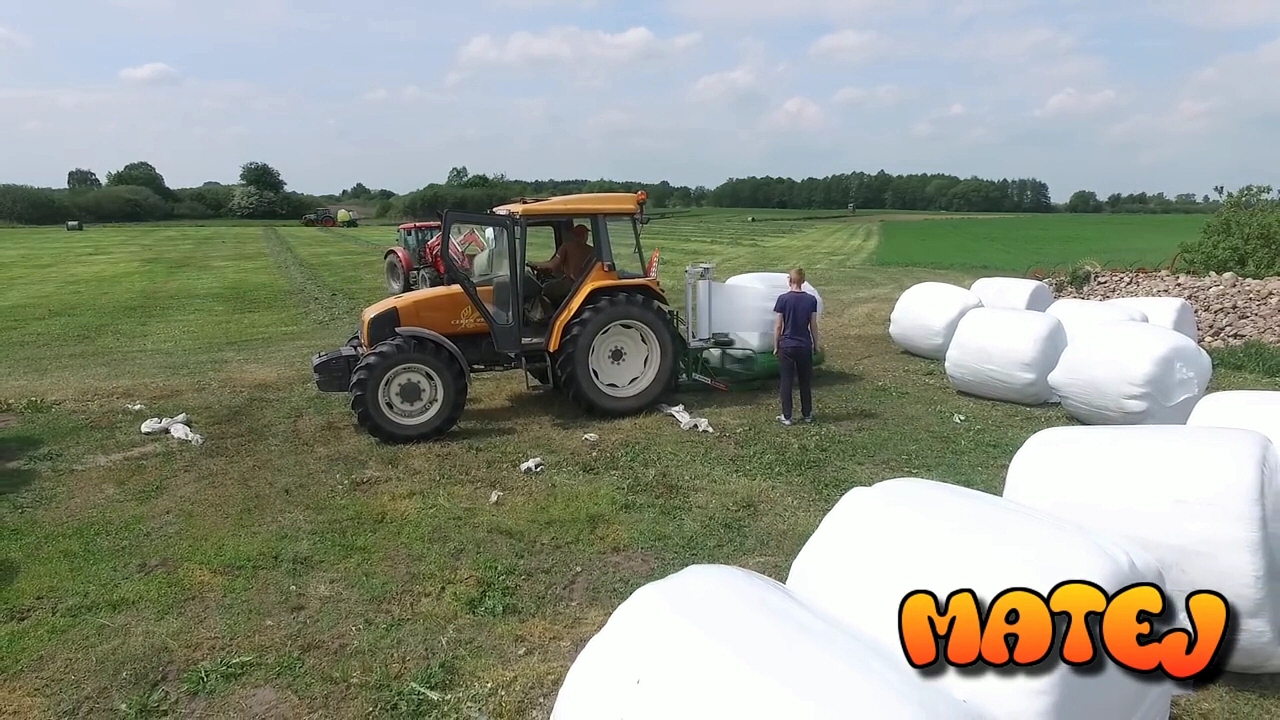insan: (771, 265, 824, 425)
traktor: (304, 166, 715, 451), (377, 206, 484, 293)
